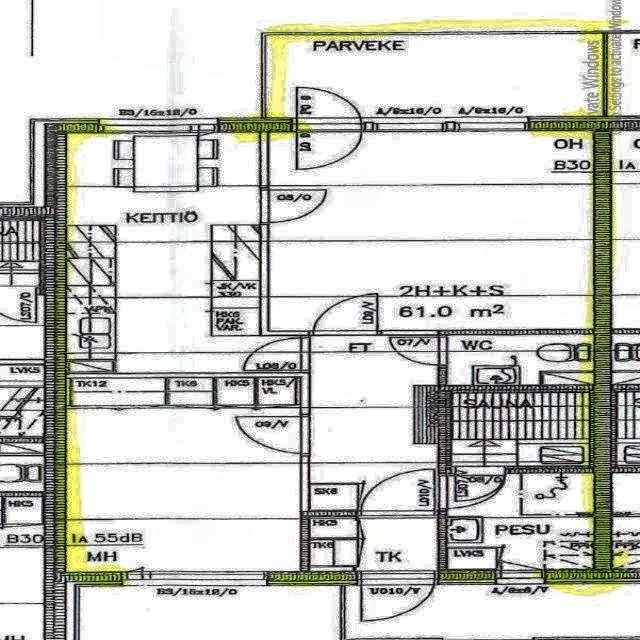room: (268, 132, 593, 330), (65, 131, 303, 374), (64, 377, 304, 573), (310, 334, 439, 511), (446, 472, 596, 571), (451, 392, 592, 466), (447, 335, 594, 385), (308, 519, 439, 571)
